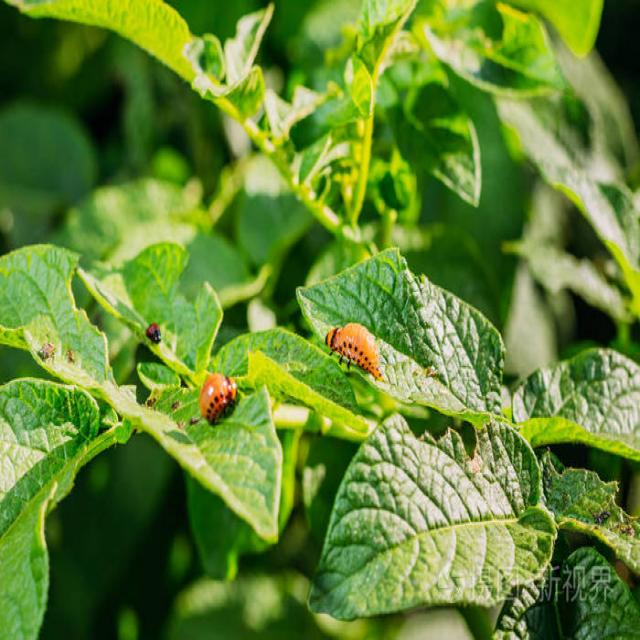ShuCaiHuaBanChong-Larva-: (324, 316, 390, 386), (187, 375, 251, 438)
